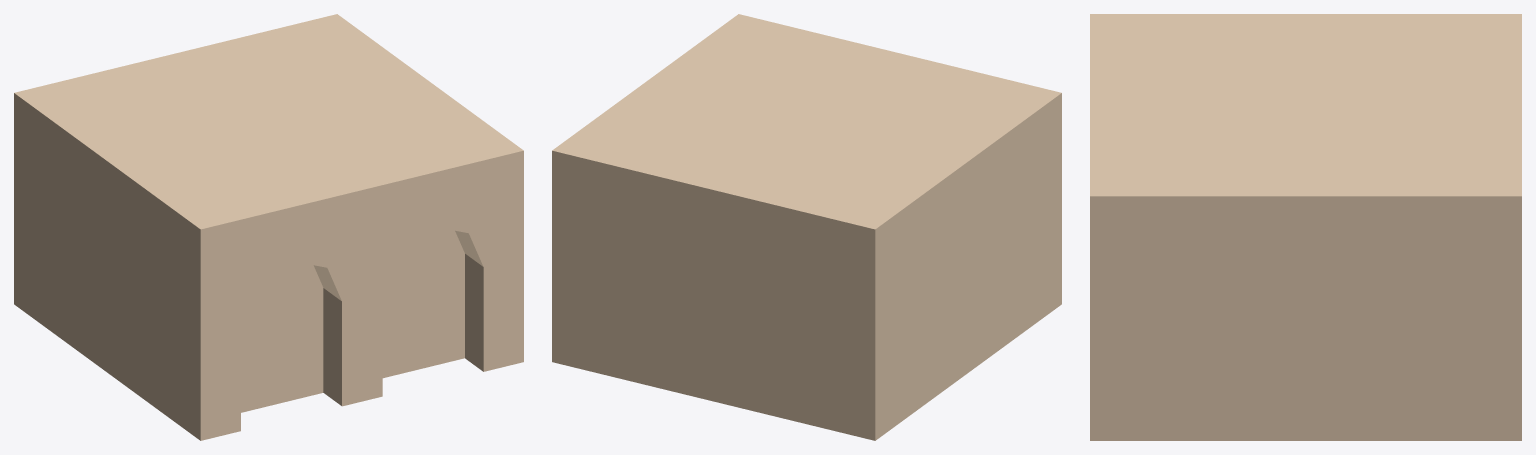
Rendered from building-windows-high-top-round.obj.
3 views of the same model, side by side, from view 1: azimuth 30°, elevation 25°; view 2: azimuth 150°, elevation 25°; view 3: azimuth 270°, elevation 25° (orthographic). The views are drawn at different scales.
Size of the model in its own units: 1 by 0.625 by 1.
